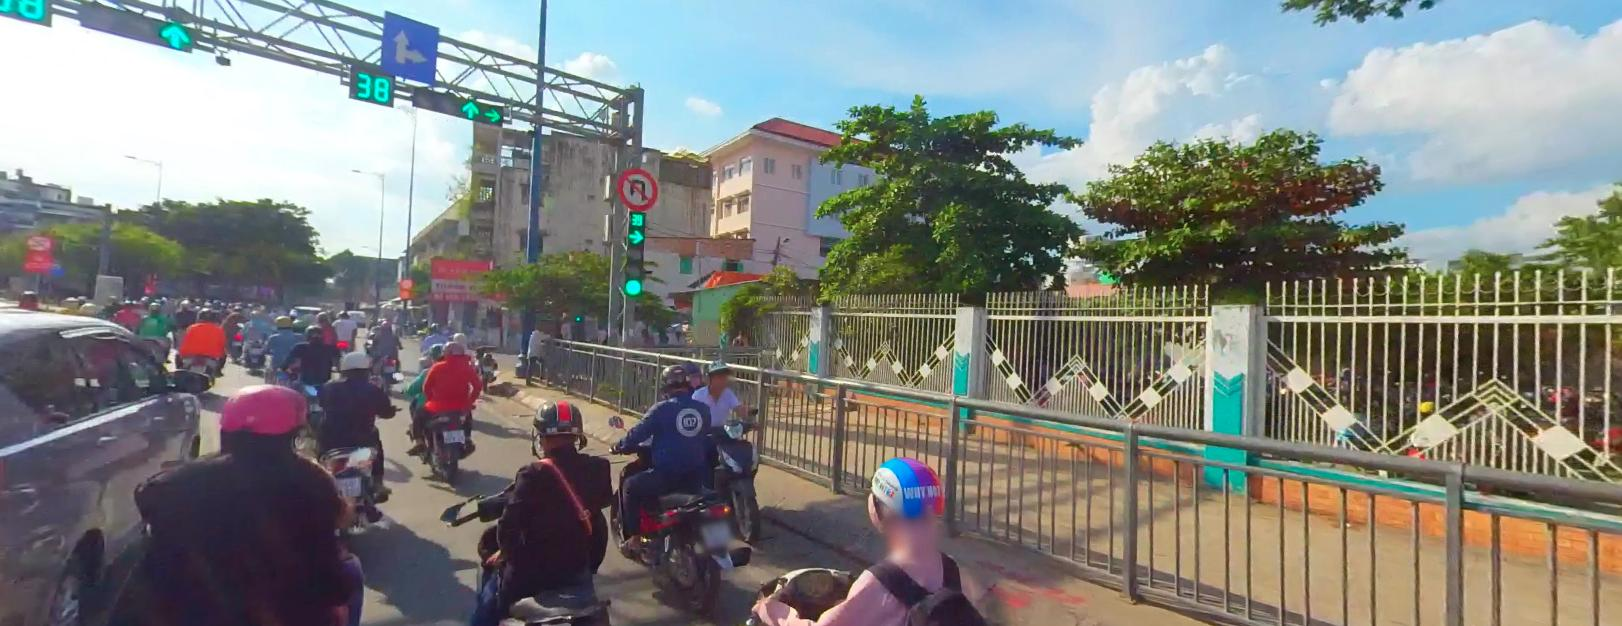Cam con lai: (26, 232, 51, 251), (399, 277, 412, 289)
Cam re: (617, 166, 657, 210)
